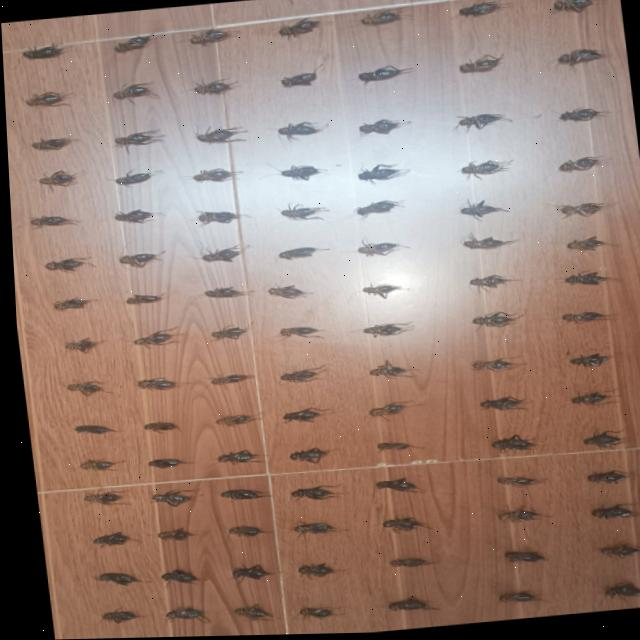egg: (355, 165, 407, 184), (357, 66, 410, 84), (456, 200, 506, 219), (275, 122, 323, 141), (556, 50, 605, 68), (466, 273, 514, 291), (457, 55, 502, 74), (459, 235, 515, 250), (458, 161, 510, 177), (485, 435, 531, 453), (352, 200, 400, 217), (455, 115, 509, 130), (585, 504, 635, 520), (144, 489, 191, 506), (285, 485, 338, 500), (276, 205, 325, 221), (194, 127, 243, 143), (356, 120, 408, 135), (468, 312, 516, 328), (113, 129, 161, 145), (111, 82, 156, 99), (277, 18, 319, 36), (225, 564, 267, 582), (198, 245, 242, 262), (556, 158, 602, 174), (187, 29, 233, 45), (563, 237, 612, 252), (556, 204, 608, 218), (22, 90, 70, 105), (364, 402, 412, 417), (591, 544, 639, 559), (556, 108, 607, 122), (467, 359, 521, 372), (358, 323, 408, 337), (551, 0, 601, 14), (370, 478, 416, 493), (365, 361, 408, 377), (192, 78, 235, 94), (129, 331, 174, 346), (278, 165, 323, 180), (578, 432, 620, 448), (190, 168, 238, 182), (355, 243, 403, 257), (158, 606, 200, 622), (376, 518, 424, 532), (275, 367, 319, 382), (113, 170, 160, 184), (275, 247, 325, 260), (491, 510, 541, 523), (37, 170, 75, 187), (116, 252, 159, 267), (211, 449, 257, 463), (475, 397, 521, 411), (360, 10, 400, 26), (264, 285, 309, 299), (565, 354, 607, 369), (194, 211, 239, 225), (598, 584, 640, 599), (113, 35, 150, 52), (28, 137, 76, 150), (381, 597, 429, 610), (21, 43, 62, 58), (566, 393, 613, 406), (458, 2, 501, 16), (561, 273, 607, 286), (112, 209, 158, 222), (40, 257, 85, 270), (284, 448, 323, 463), (291, 563, 332, 577), (557, 313, 609, 324), (62, 380, 100, 395), (358, 285, 398, 299), (227, 604, 264, 619), (88, 572, 134, 584), (26, 215, 76, 226), (210, 414, 255, 426), (154, 568, 190, 583), (492, 477, 541, 488), (286, 523, 335, 534), (581, 472, 622, 485), (275, 326, 319, 338), (279, 72, 314, 87), (491, 592, 538, 603), (131, 377, 174, 389), (200, 286, 243, 298), (94, 609, 133, 622), (49, 296, 91, 308), (214, 489, 264, 499), (279, 408, 317, 421), (206, 326, 243, 339), (86, 531, 123, 544), (76, 459, 119, 470), (143, 457, 189, 467), (78, 491, 116, 503), (498, 552, 539, 563), (61, 337, 93, 351), (151, 527, 187, 539), (206, 374, 246, 384), (292, 607, 328, 618), (222, 525, 258, 536), (383, 558, 427, 567), (121, 293, 158, 303), (139, 421, 172, 432), (69, 425, 111, 433), (371, 443, 411, 450), (579, 244, 590, 250)
